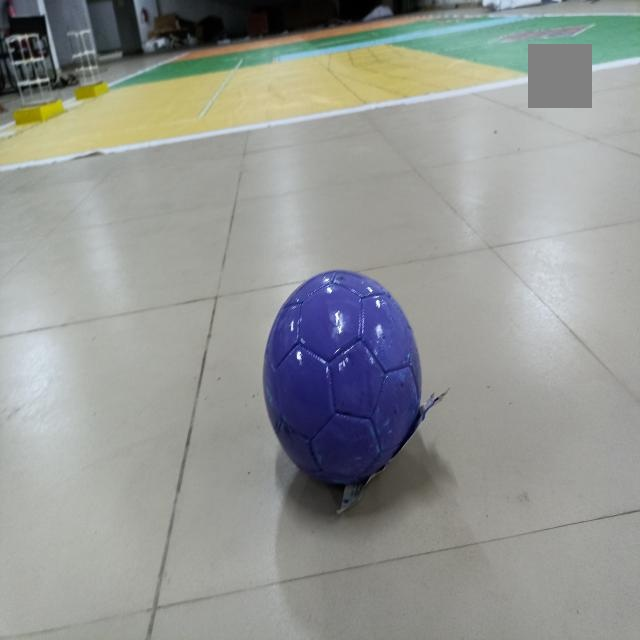purple_ball: (268, 271, 438, 487)
